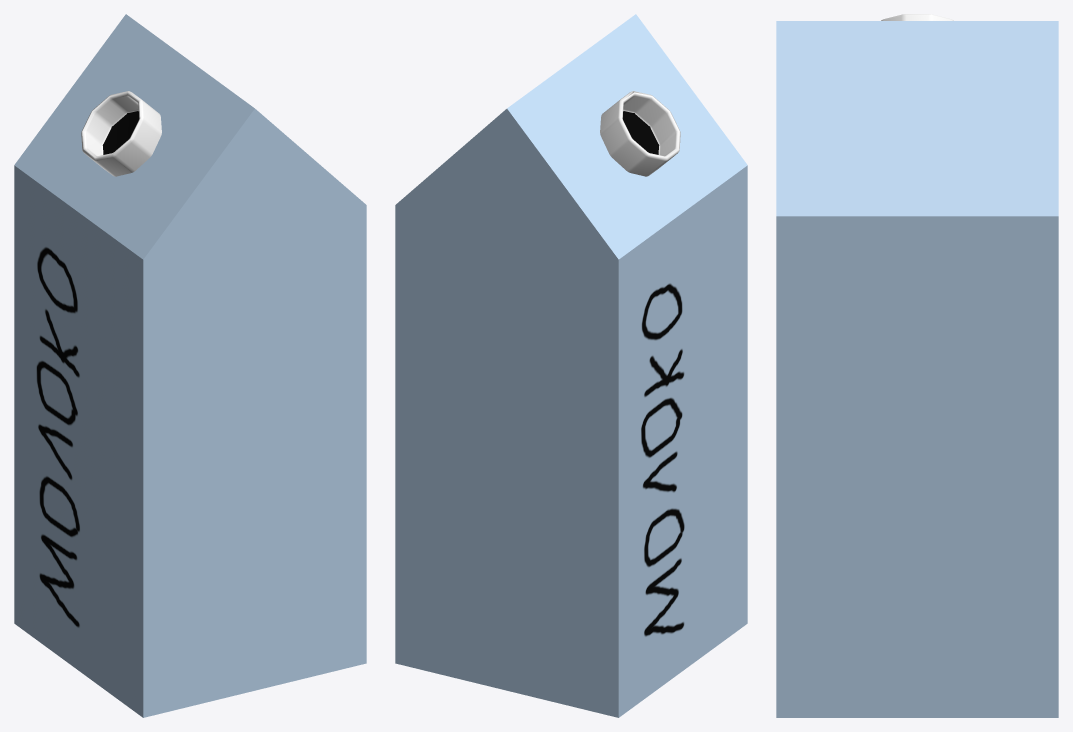
The model's file is milk.dae.
3 renders of one model, left to right at view 1: azimuth 30°, elevation 25°; view 2: azimuth 150°, elevation 25°; view 3: azimuth 270°, elevation 25°, orthographic. The views are drawn at different scales.
Visible parts, largest first — view 1: Milk; view 2: Milk; view 3: Milk.
Part boxes in pixels (<box>): Milk: <box>14,14,366,717</box>; Milk: <box>395,14,747,717</box>; Milk: <box>776,14,1058,717</box>.
Size of the model in its own units: 1.02 by 1.02 by 2.54.
